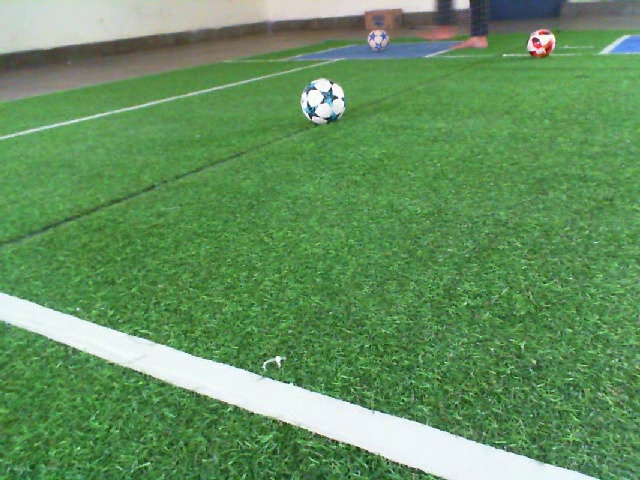ball: (298, 76, 348, 127), (524, 27, 559, 60), (365, 27, 392, 54)
